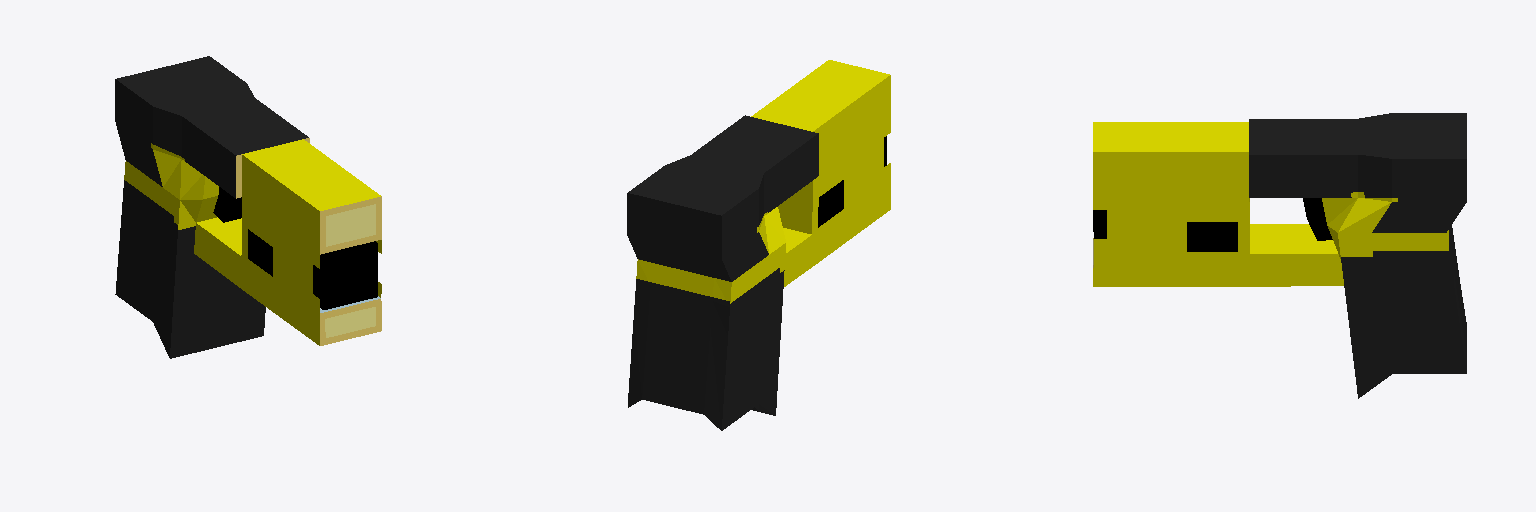
3 renders of one model, left to right at view 1: azimuth 30°, elevation 25°; view 2: azimuth 150°, elevation 25°; view 3: azimuth 270°, elevation 25°, orthographic.
Visible parts, largest first — view 1: cuboid; view 2: cuboid; view 3: cuboid.
Boxes of the visible parts, <box> form: cuboid: <box>115,56,381,358</box>; cuboid: <box>627,60,890,430</box>; cuboid: <box>1093,113,1466,398</box>.
Bounding box in the file's own units: 1 × 2.44 × 3.44.
1 materials, 1 textured.